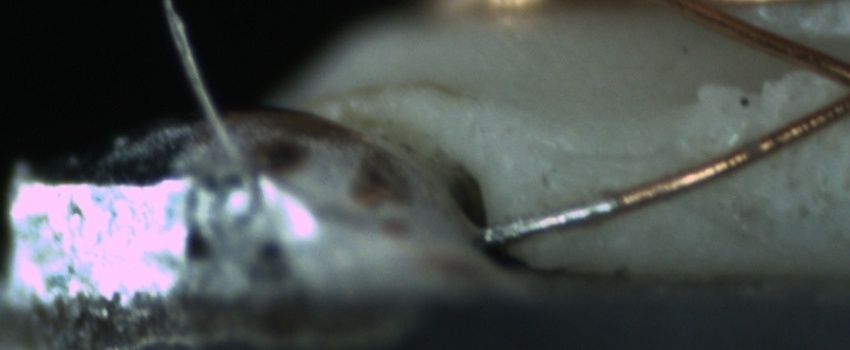DL: (534, 124, 673, 187)
TS: (481, 192, 613, 247)
TTCW: (473, 180, 648, 245)
